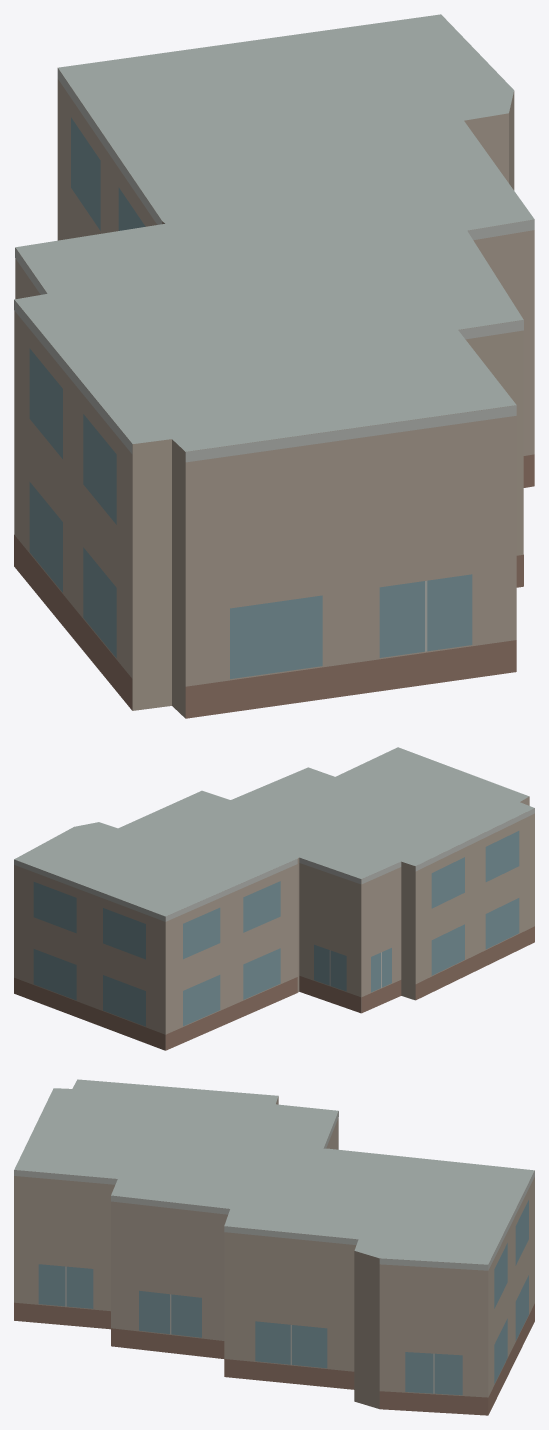
Rendered from survey-upis-32510041.glb.
3 views of the same model, one above another, from view 1: azimuth 30°, elevation 25°; view 2: azimuth 150°, elevation 25°; view 3: azimuth 270°, elevation 25° (orthographic). The views are drawn at different scales.
Parts seen in each view (by area): view 1: survey-upis-32510041.tmp; view 2: survey-upis-32510041.tmp; view 3: survey-upis-32510041.tmp.
Part boxes in pixels (left/top/right/bottom): survey-upis-32510041.tmp: left=14, top=14, right=534, bottom=718; survey-upis-32510041.tmp: left=14, top=747, right=534, bottom=1050; survey-upis-32510041.tmp: left=14, top=1079, right=534, bottom=1415.
Size of the model in its own units: 16.09 by 6.1 by 19.1.
